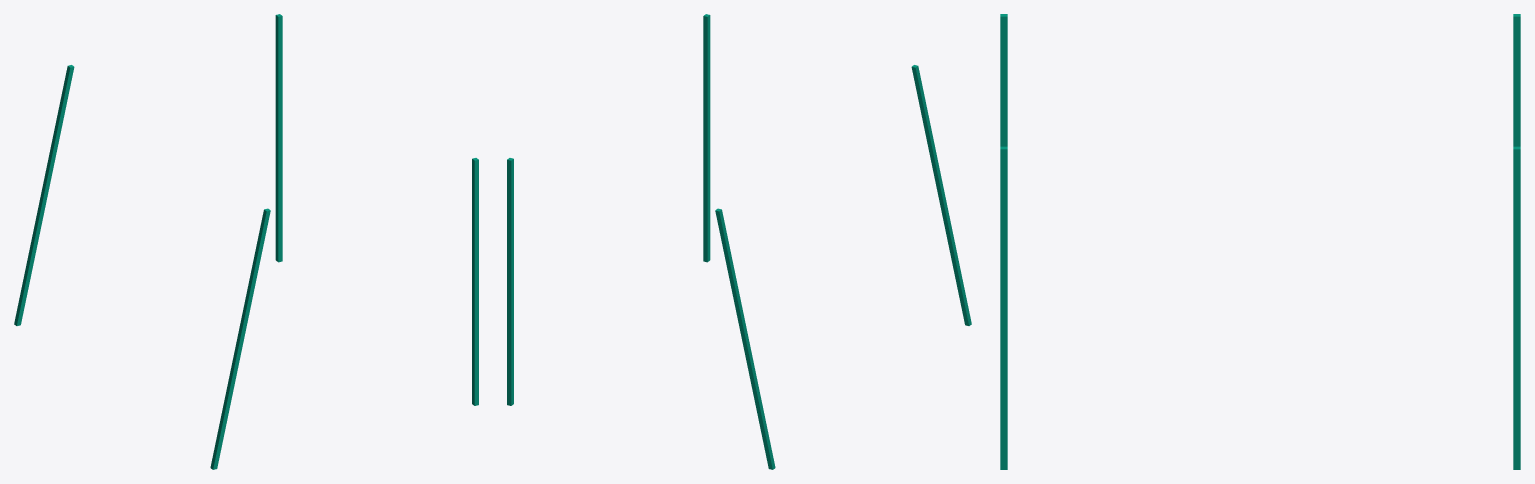
File: Camping_Tent_01_Collider_02.fbx
3 renders of one model, left to right at view 1: azimuth 30°, elevation 25°; view 2: azimuth 150°, elevation 25°; view 3: azimuth 270°, elevation 25°, orthographic. The views are drawn at different scales.
Visible parts, largest first — view 1: Camping_Tent_01_Collider_02; view 2: Camping_Tent_01_Collider_02; view 3: Camping_Tent_01_Collider_02.
Boxes of the visible parts, box(x1,y1,x2,y2) form: Camping_Tent_01_Collider_02: box(14, 14, 478, 469); Camping_Tent_01_Collider_02: box(507, 14, 971, 469); Camping_Tent_01_Collider_02: box(1000, 14, 1520, 469).
Bounding box in the file's own units: 241 × 213 × 313.
